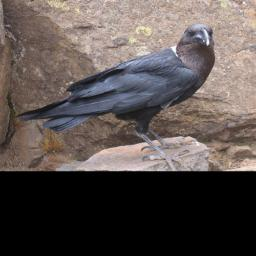Crow: (15, 23, 216, 171)
